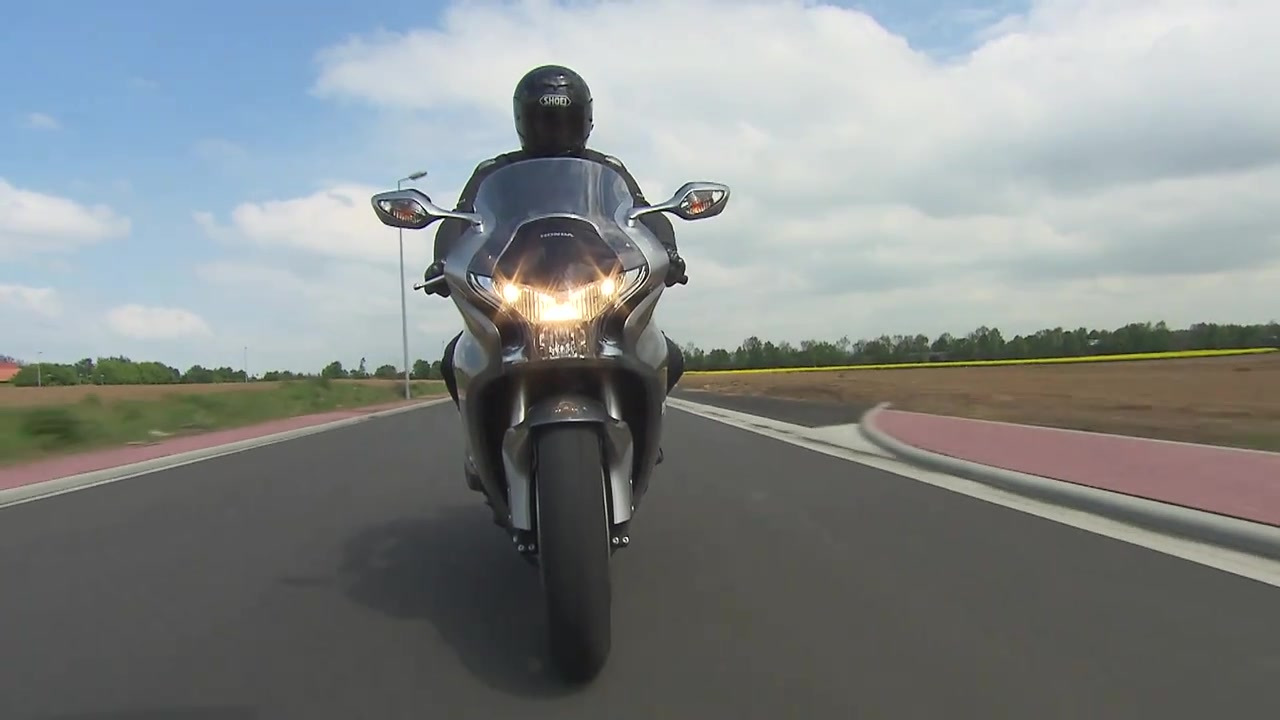motorbike: (374, 154, 731, 688)
